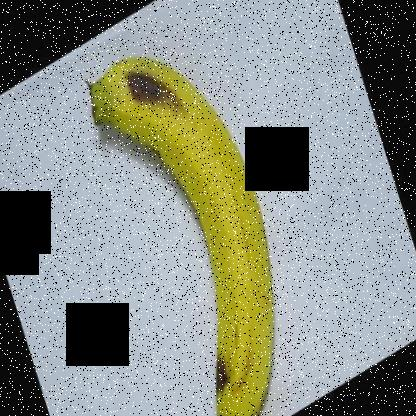freshripe: (74, 34, 294, 415)
